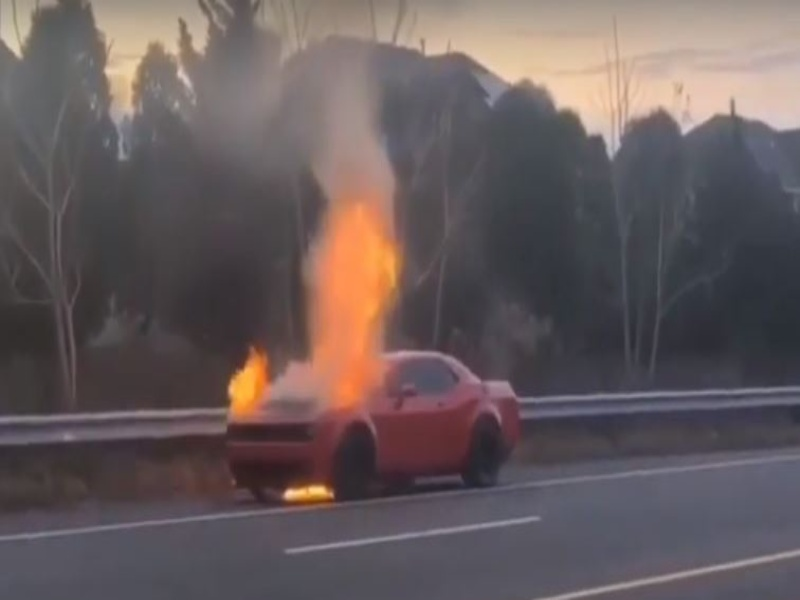smoke: (218, 4, 387, 215)
